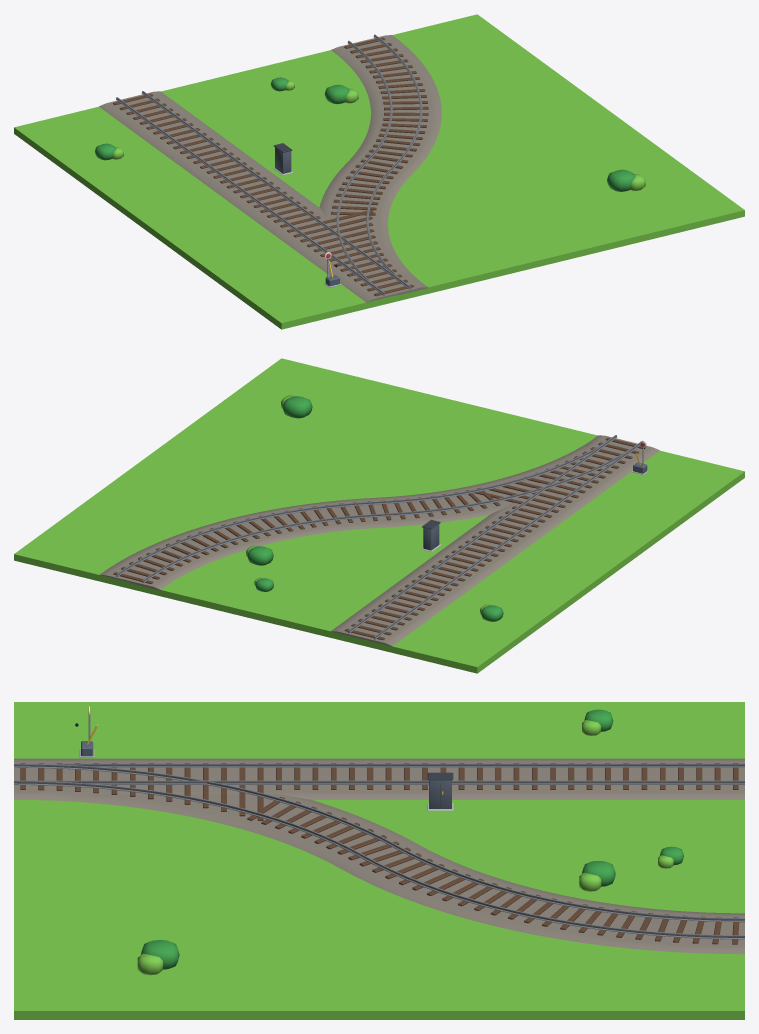
The model's file is trilho_desvio.glb.
3 renders of one model, top to bottom at view 1: azimuth 30°, elevation 25°; view 2: azimuth 150°, elevation 25°; view 3: azimuth 270°, elevation 25°, orthographic. The views are drawn at different scales.
Parts seen in each view (by area): view 1: trilho_desvio; view 2: trilho_desvio; view 3: trilho_desvio.
Boxes of the visible parts, <box> form: trilho_desvio: <box>14,14,744,329</box>; trilho_desvio: <box>14,358,744,673</box>; trilho_desvio: <box>14,702,744,1019</box>.
Size of the model in its own units: 30 by 2.42 by 30.
1 material, 1 textured.
